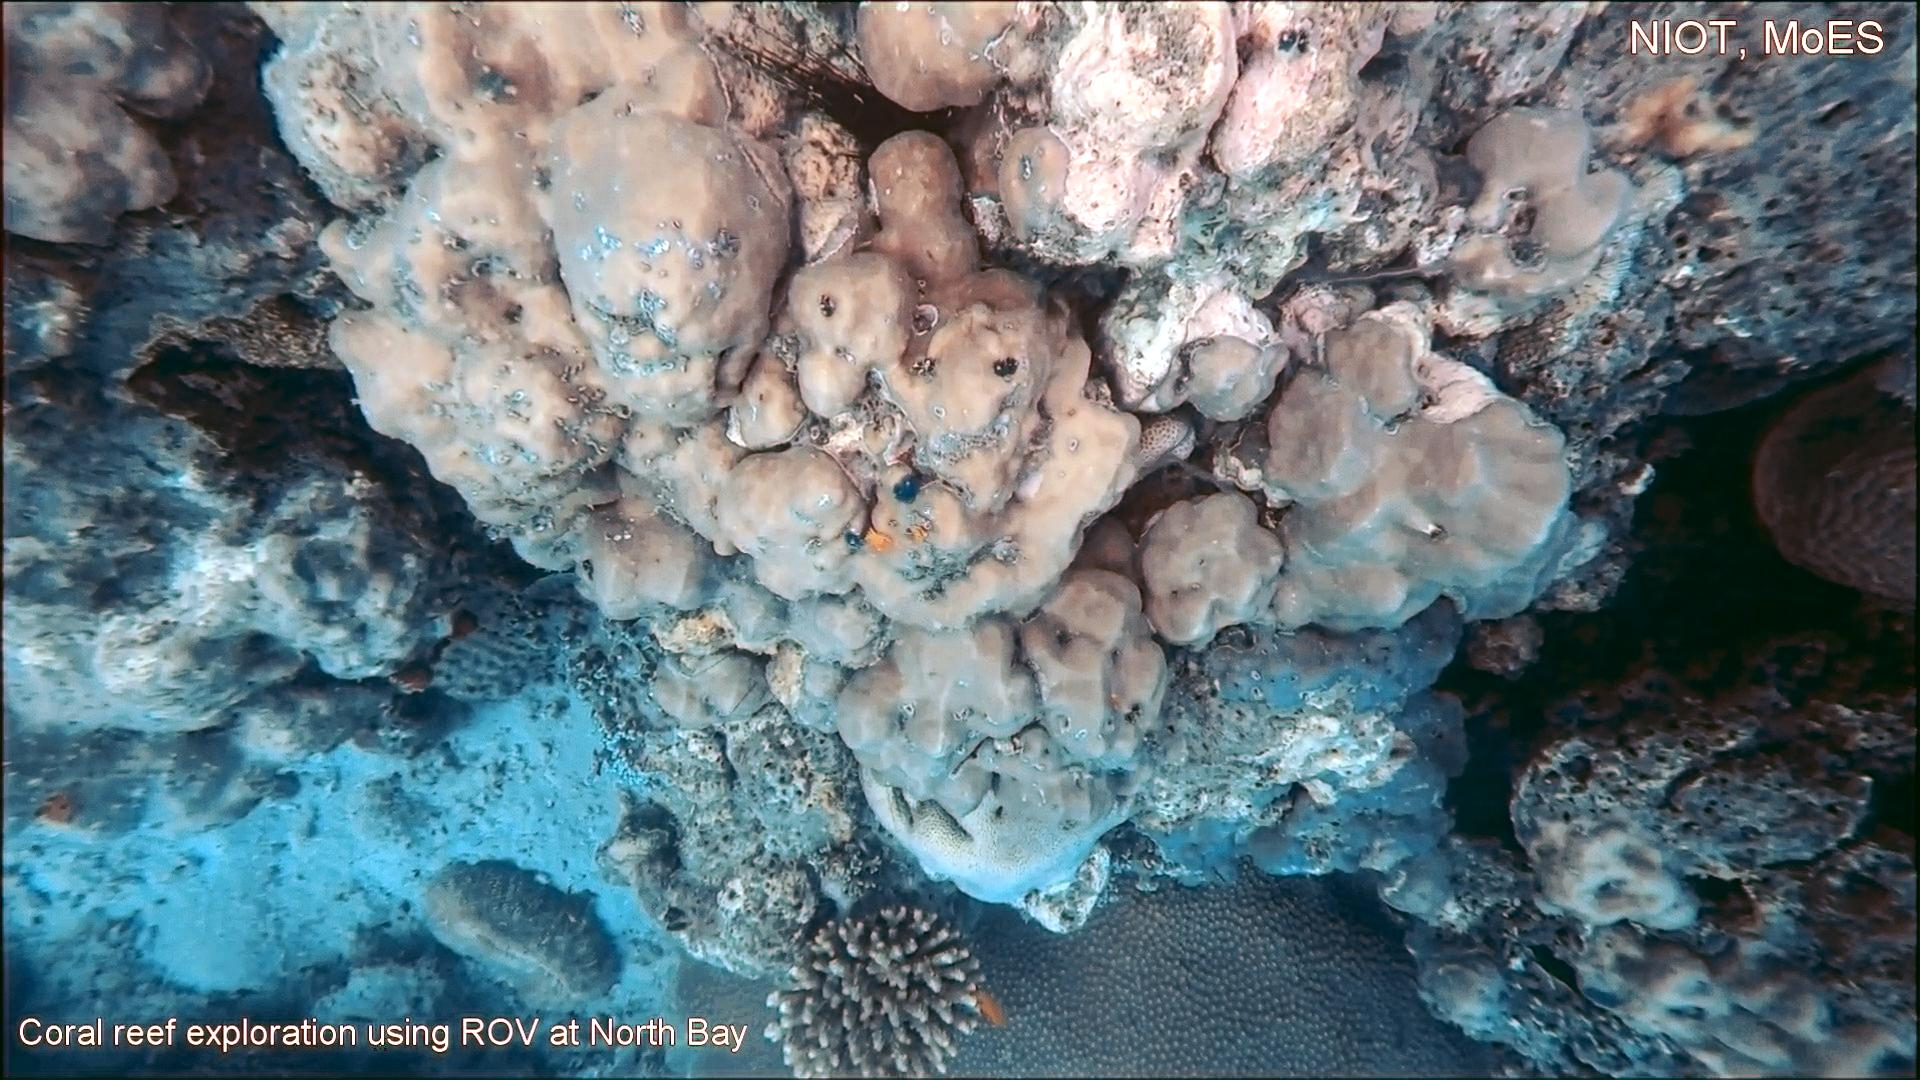Meandrina meandrites: (1745, 339, 1920, 620)
